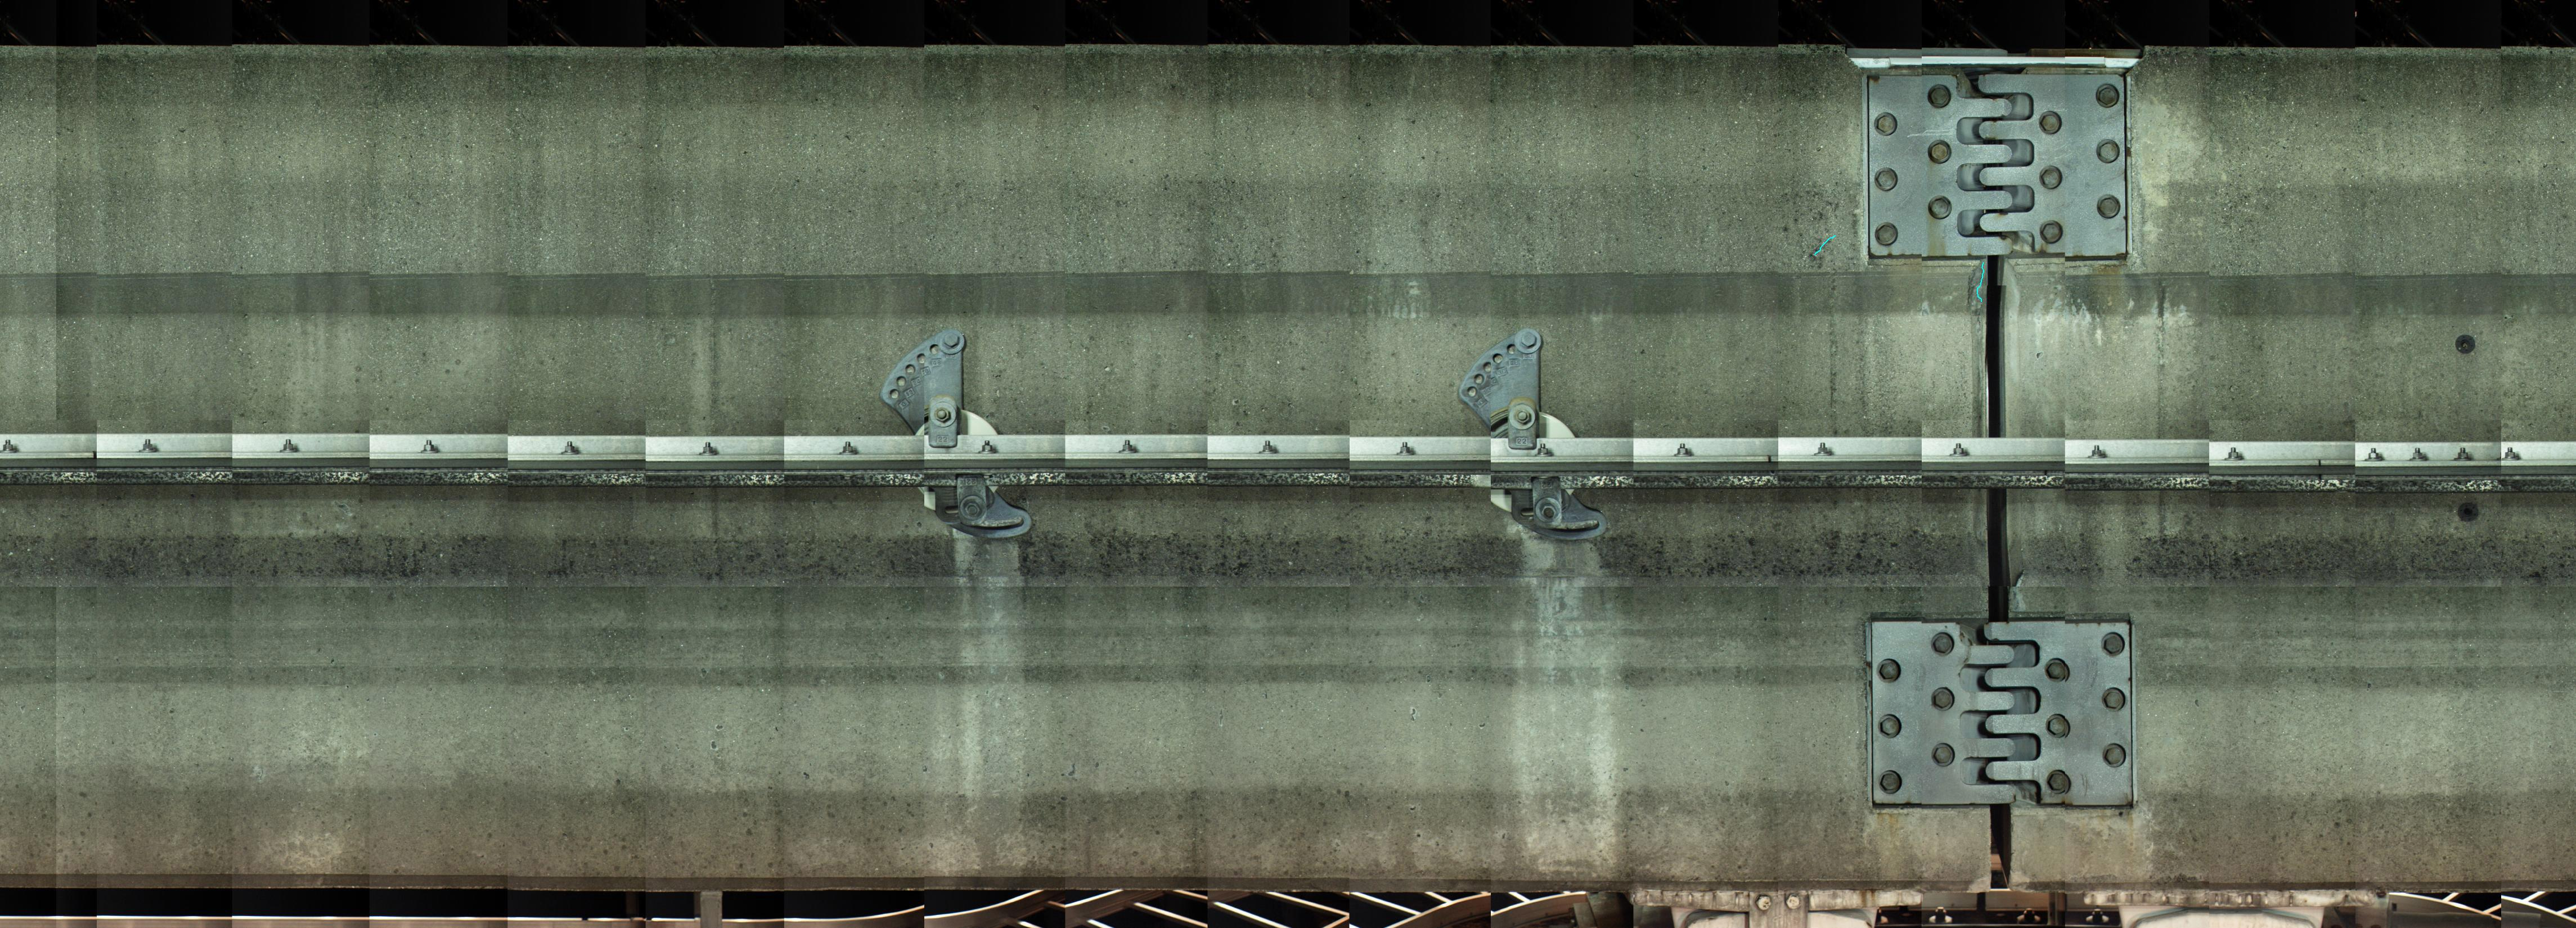concrete: (7, 485, 1989, 894), (0, 46, 1975, 432), (1999, 485, 2573, 892), (2004, 51, 2569, 437)
